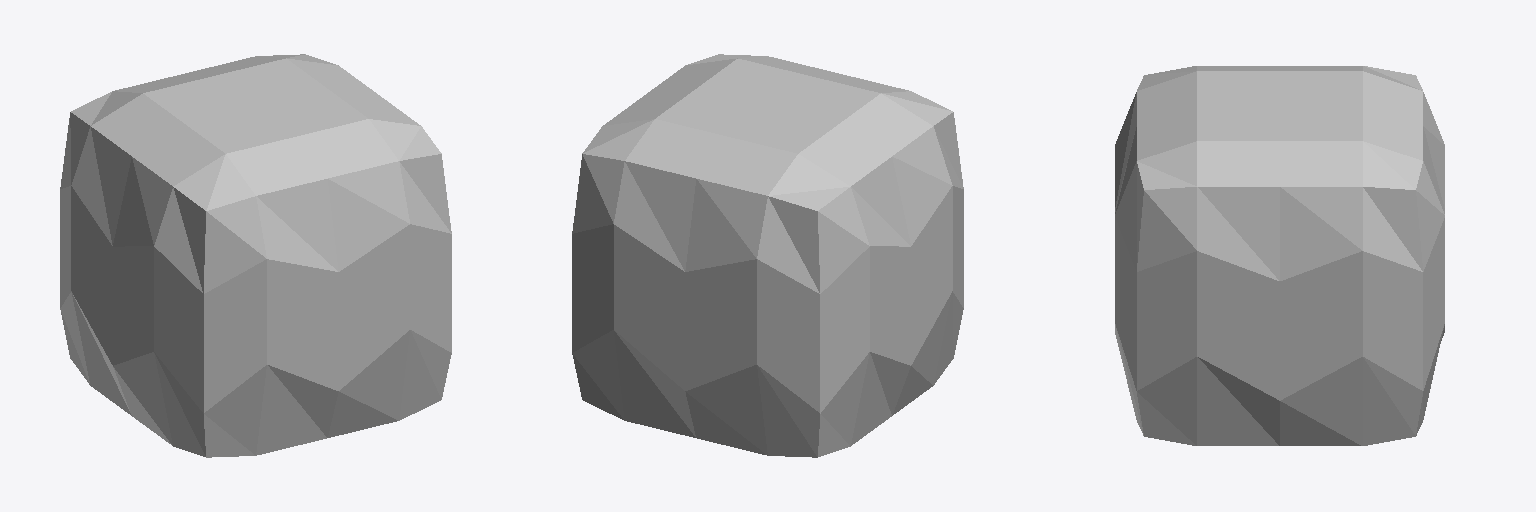
File: ledge1.obj
3 renders of one model, left to right at view 1: azimuth 30°, elevation 25°; view 2: azimuth 150°, elevation 25°; view 3: azimuth 270°, elevation 25°, orthographic.
Visible parts, largest first — view 1: ledge1; view 2: ledge1; view 3: ledge1.
Part boxes in pixels (x1,y1,x2,y2): ledge1: (60, 54, 451, 457); ledge1: (572, 54, 963, 457); ledge1: (1115, 66, 1444, 445).
Size of the model in its own units: 64 by 64 by 64.